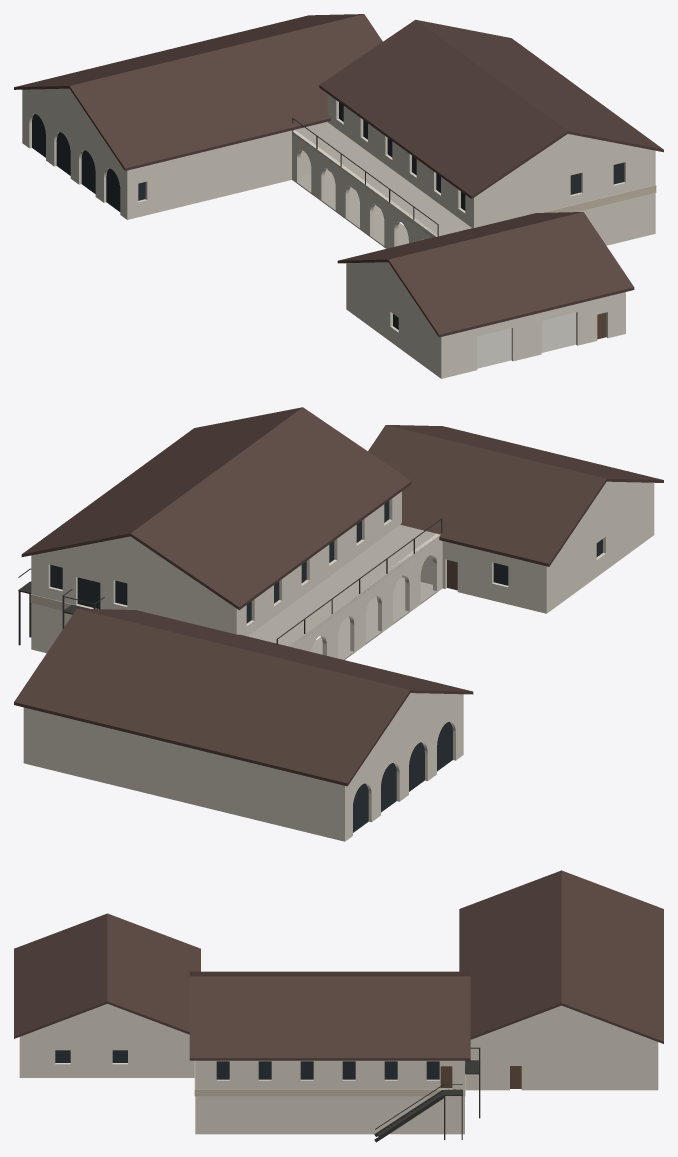
The model's file is 7824-zero-rd-building.glb.
The picture shows the model from 3 angles, top to bottom: view 1: azimuth 30°, elevation 25°; view 2: azimuth 150°, elevation 25°; view 3: azimuth 270°, elevation 25°; orthographic projection. The views are drawn at different scales.
Visible parts, largest first — view 1: roof (×3), wall (×7), gable (×3), deck, garage (×2), porch_floor, floor_band; view 2: roof (×3), wall (×7), gable (×3), deck, glass (×5), porch_floor; view 3: roof (×3), wall (×4), gable (×2), floor_band.
Boxes of the visible parts, x1,y1,x2,y2 form: roof (×3): [14, 14, 663, 337]; wall (×7): [25, 93, 655, 378]; gable (×3): [22, 88, 655, 326]; deck: [292, 122, 471, 237]; garage (×2): [477, 312, 575, 368]; porch_floor: [292, 170, 408, 248]; floor_band: [542, 185, 656, 212]; roof (×3): [14, 407, 663, 786]; wall (×7): [23, 487, 651, 841]; gable (×3): [31, 481, 654, 773]; deck: [248, 525, 440, 646]; glass (×5): [77, 577, 452, 832]; porch_floor: [311, 577, 436, 659]; roof (×3): [14, 870, 663, 1060]; wall (×4): [24, 1036, 653, 1134]; gable (×2): [21, 1004, 656, 1041]; floor_band: [195, 1089, 464, 1096].
Size of the model in its own units: 34.03 by 10.56 by 51.92.
